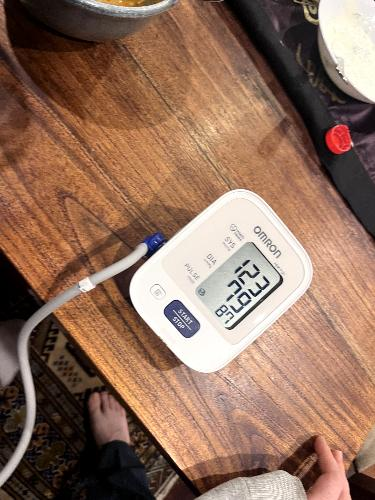bpm: (189, 238, 288, 334)
